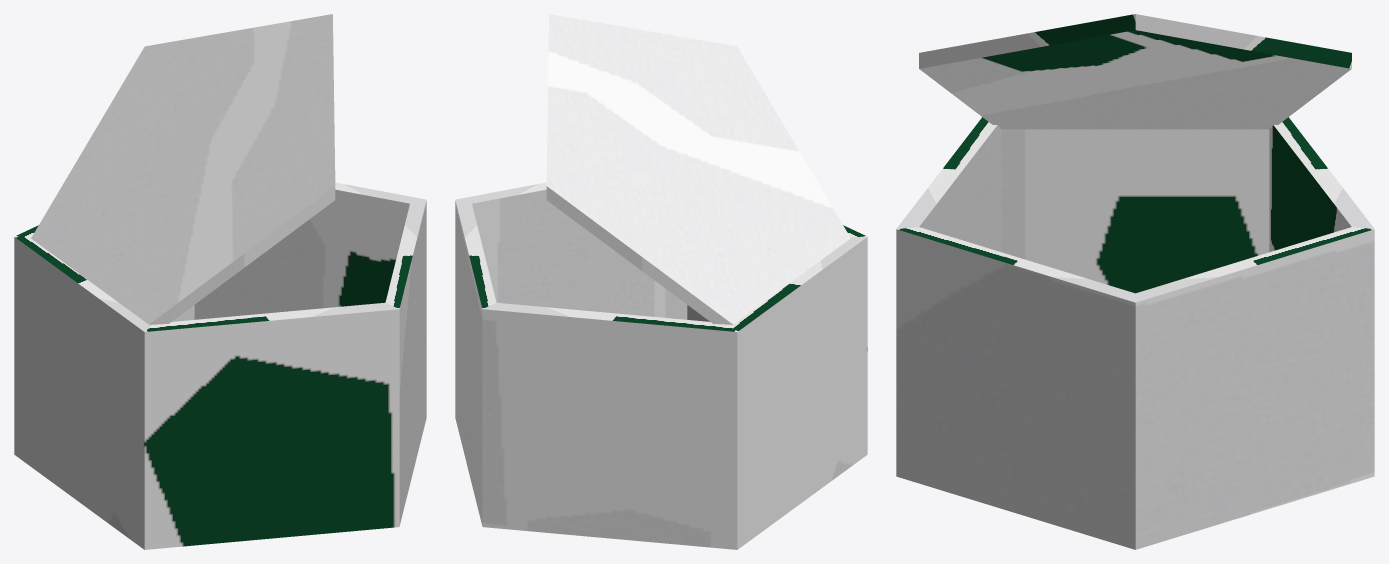
File: sardine_can.fbx
The picture shows the model from 3 angles, left to right: view 1: azimuth 30°, elevation 25°; view 2: azimuth 150°, elevation 25°; view 3: azimuth 270°, elevation 25°; orthographic projection. The views are drawn at different scales.
Parts seen in each view (by area): view 1: pCylinder17; view 2: pCylinder17; view 3: pCylinder17.
Part boxes in pixels (x1,y1,x2,y2): pCylinder17: (14,14,426,549); pCylinder17: (455,14,867,549); pCylinder17: (896,14,1374,549).
Bounding box in the file's own units: 1.34 × 1.57 × 1.41.
